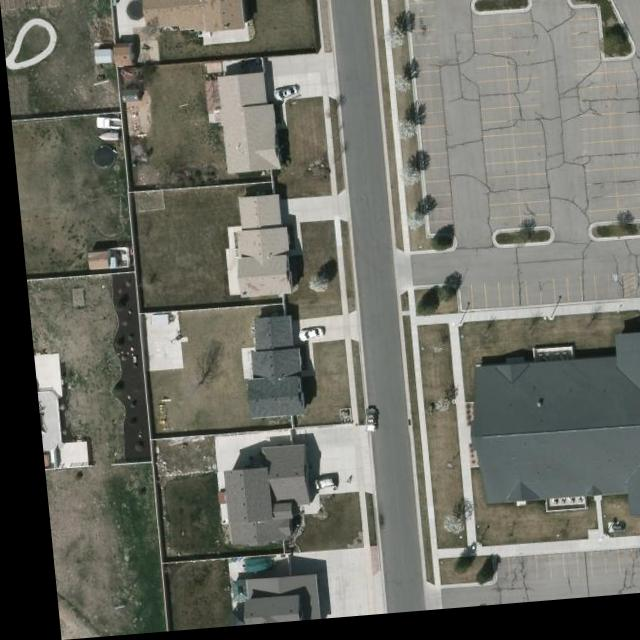vehicle: (268, 91, 299, 109), (92, 117, 121, 133), (289, 332, 317, 347), (355, 414, 371, 440), (300, 482, 326, 495)
